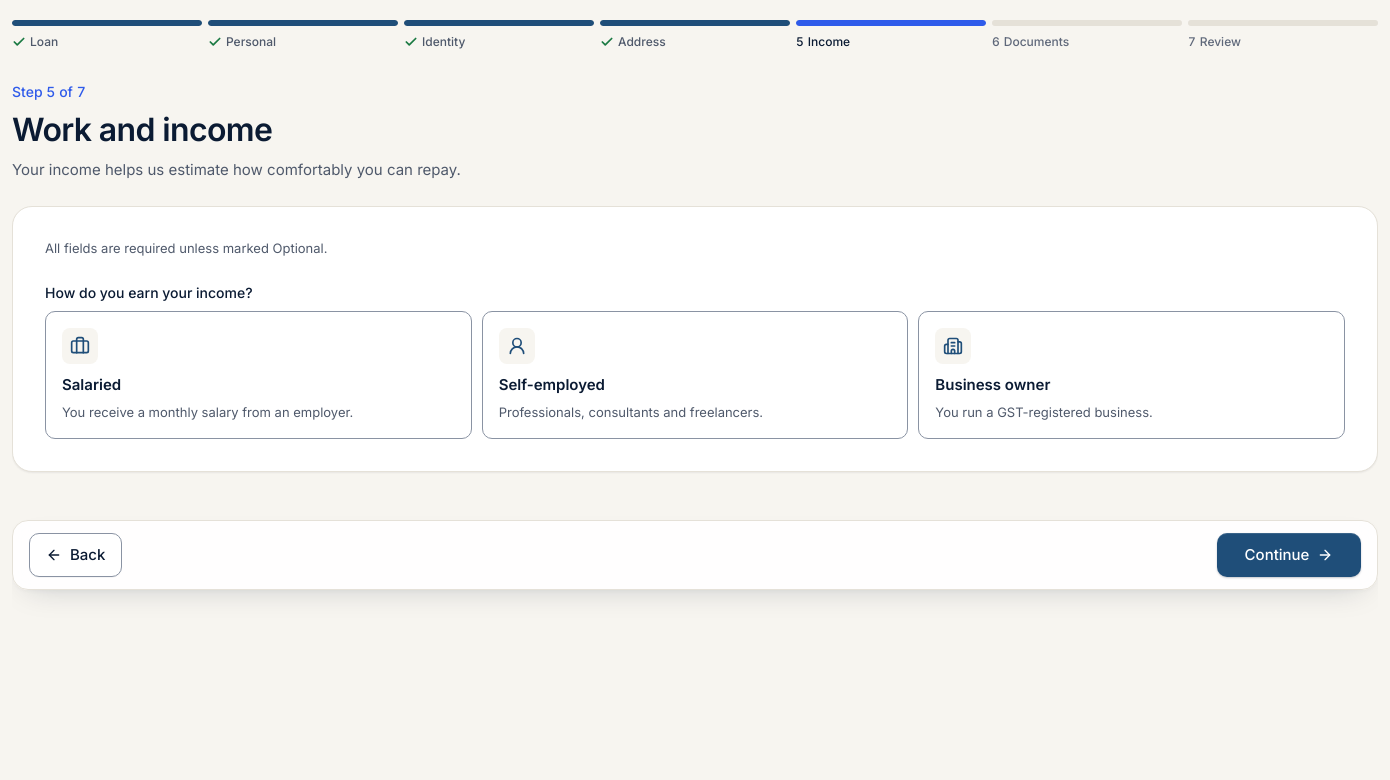
Scenario: Step 5 — employment › requires a choice before Continue
Click the button "Continue" at (1289, 555), box [1217, 533, 1361, 577]
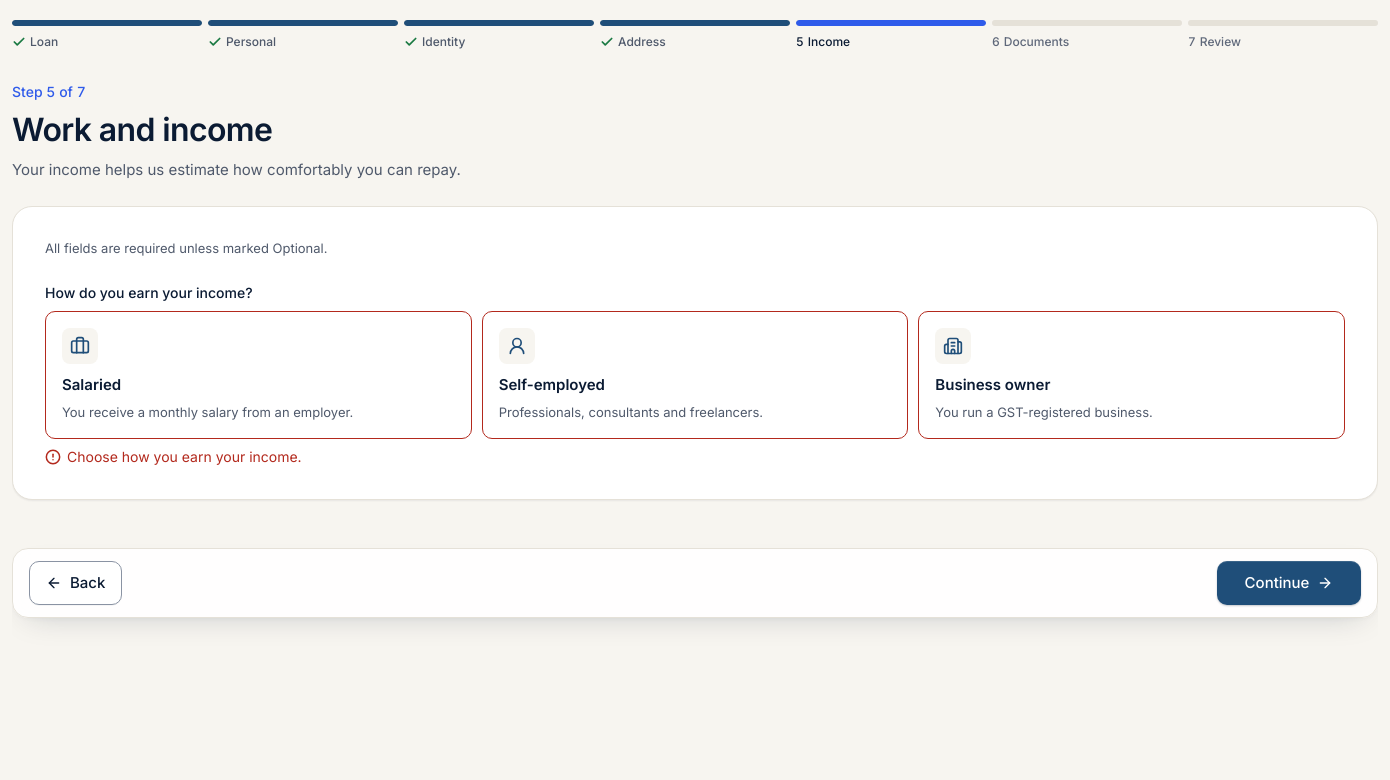
Expected: the text "Choose how you earn your income." is shown, [67, 447, 302, 467]
